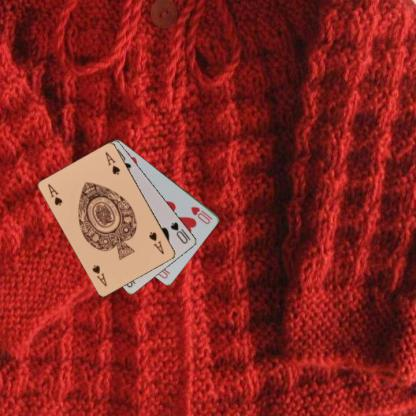10h: (188, 204, 214, 225)
10s: (168, 219, 190, 245)
As: (147, 229, 166, 256), (46, 181, 64, 207)
